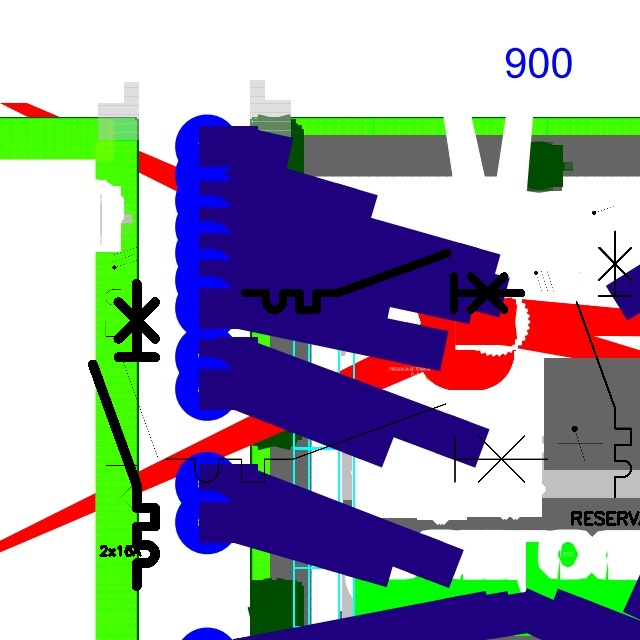interruptor_termomagnetico: (156, 394, 558, 492), (85, 276, 163, 594), (238, 246, 528, 317), (570, 224, 638, 503), (99, 263, 165, 535)
